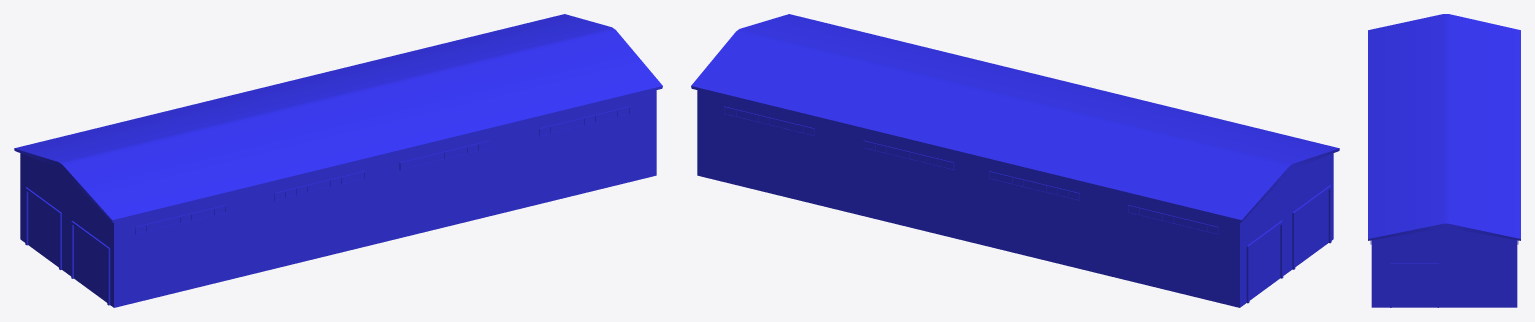
Rendered from Building_07.fbx.
3 renders of one model, left to right at view 1: azimuth 30°, elevation 25°; view 2: azimuth 150°, elevation 25°; view 3: azimuth 270°, elevation 25°, orthographic. The views are drawn at different scales.
Parts seen in each view (by area): view 1: Building_07; view 2: Building_07; view 3: Building_07.
Part boxes in pixels (bbox=[...]): Building_07: bbox=[14, 14, 662, 307]; Building_07: bbox=[691, 14, 1339, 307]; Building_07: bbox=[1368, 14, 1520, 307].
Size of the model in its own units: 3667 by 700 by 1128.
